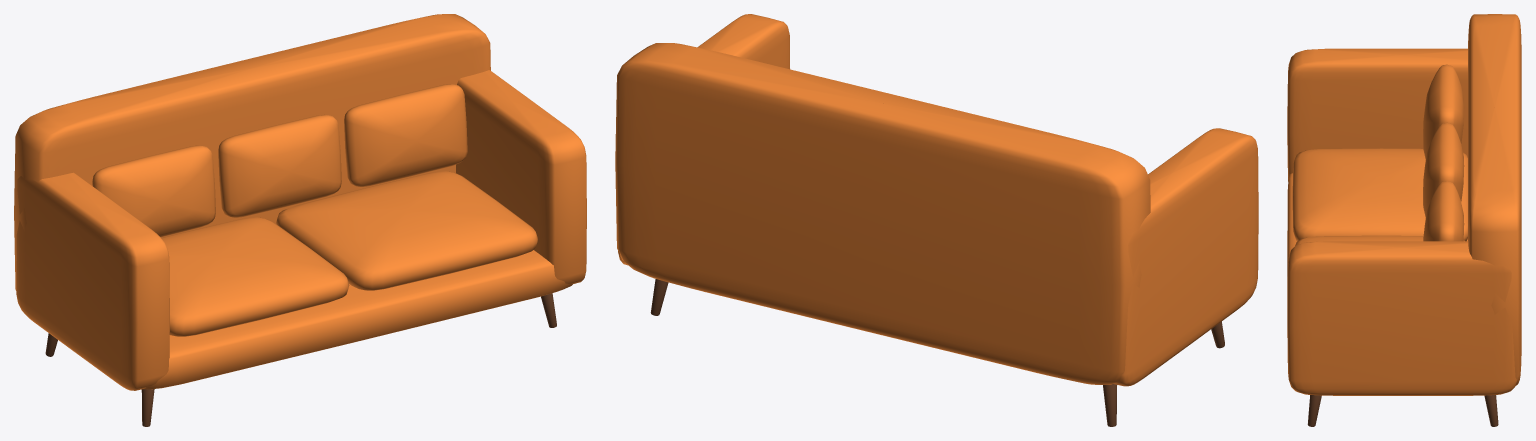
The model's file is sofa_moldura_laranja.glb.
3 views of the same model, side by side, from view 1: azimuth 30°, elevation 25°; view 2: azimuth 150°, elevation 25°; view 3: azimuth 270°, elevation 25° (orthographic). The views are drawn at different scales.
Visible parts, largest first — view 1: sofa_moldura_laranja; view 2: sofa_moldura_laranja; view 3: sofa_moldura_laranja.
Part boxes in pixels (bbox=[...]): sofa_moldura_laranja: bbox=[14, 14, 586, 426]; sofa_moldura_laranja: bbox=[615, 14, 1258, 426]; sofa_moldura_laranja: bbox=[1287, 14, 1521, 426].
Bounding box in the file's own units: 1.85 × 0.9217 × 0.87.
Materials: 1 (1 with a texture image).
